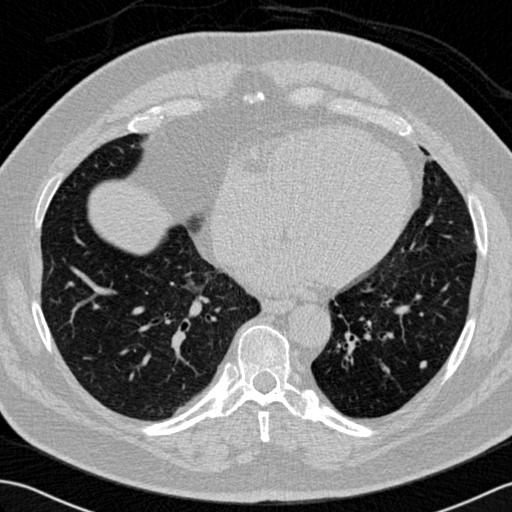nodule: (417, 358, 430, 371)
